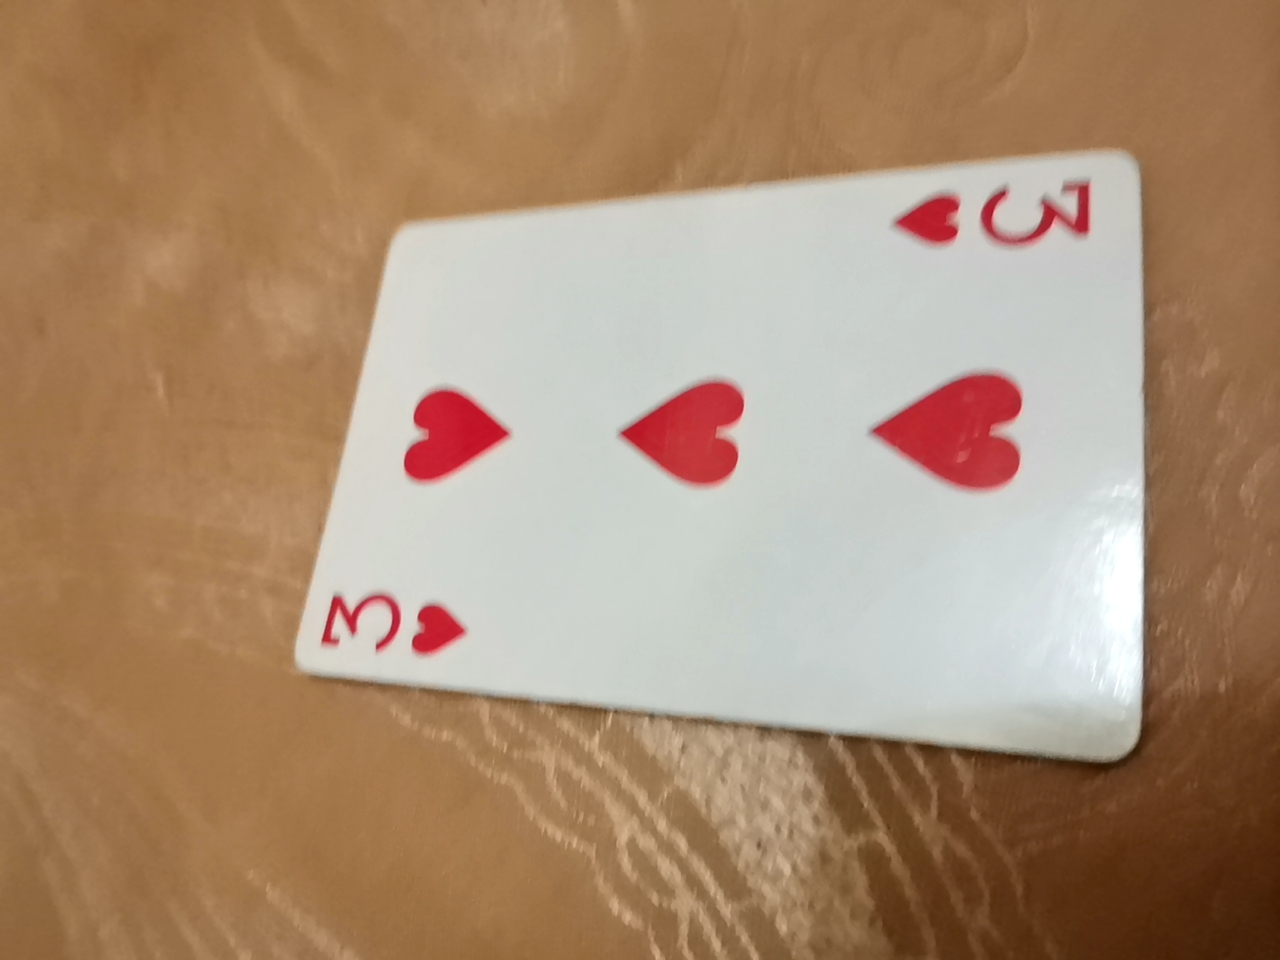hx 3: (277, 152, 1130, 758)
